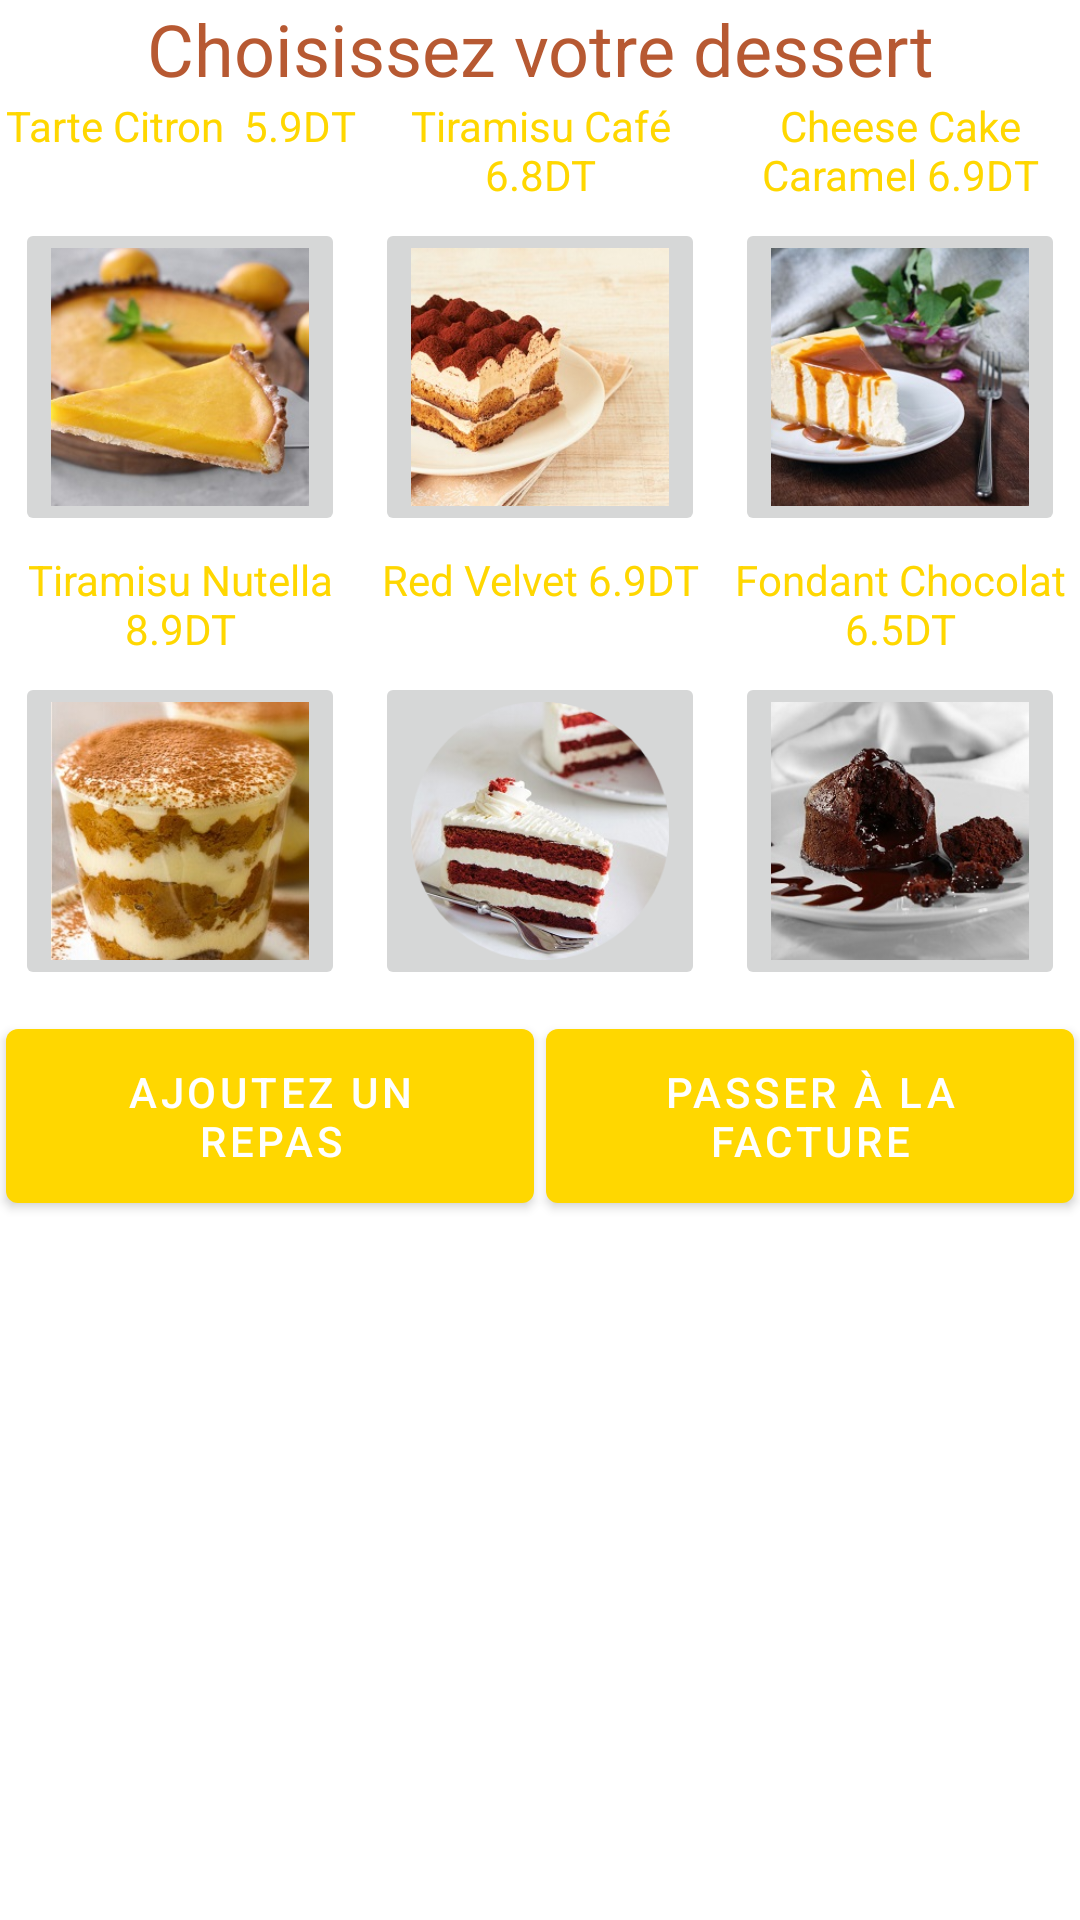

Where icons sit on this 1080*1920 app screen, as (x1, y1, x2, y2):
tiramisuspeculoos: (27, 690, 333, 972)
